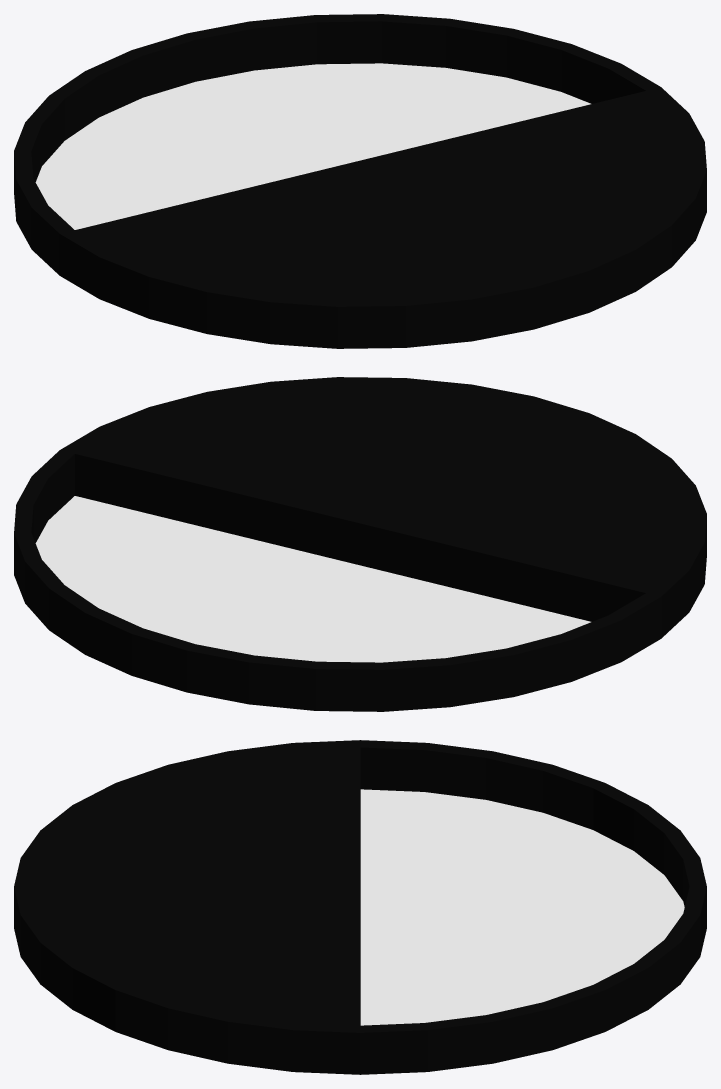
The model's file is hall_lock.obj.
3 views of the same model, one above another, from view 1: azimuth 30°, elevation 25°; view 2: azimuth 150°, elevation 25°; view 3: azimuth 270°, elevation 25° (orthographic).
Parts seen in each view (by area): view 1: Circle; view 2: Circle; view 3: Circle.
Boxes of the visible parts, <box> form: Circle: <box>14,14,706,348</box>; Circle: <box>14,377,706,711</box>; Circle: <box>14,740,706,1074</box>.
Size of the model in its own units: 1.5 by 0.1 by 1.5.
